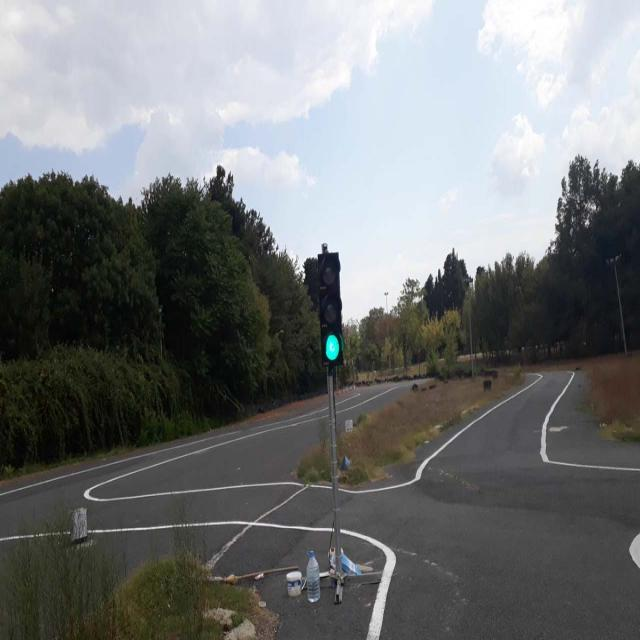yesil: (316, 250, 344, 364)
